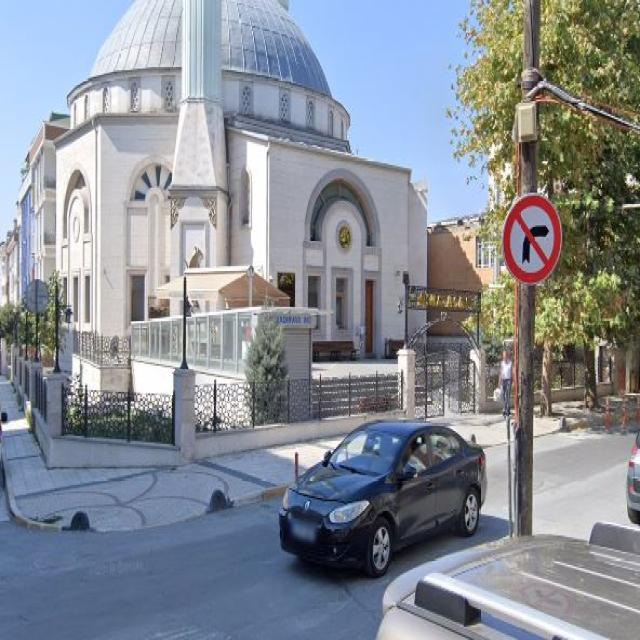sagadonulmez: (503, 192, 563, 282)
